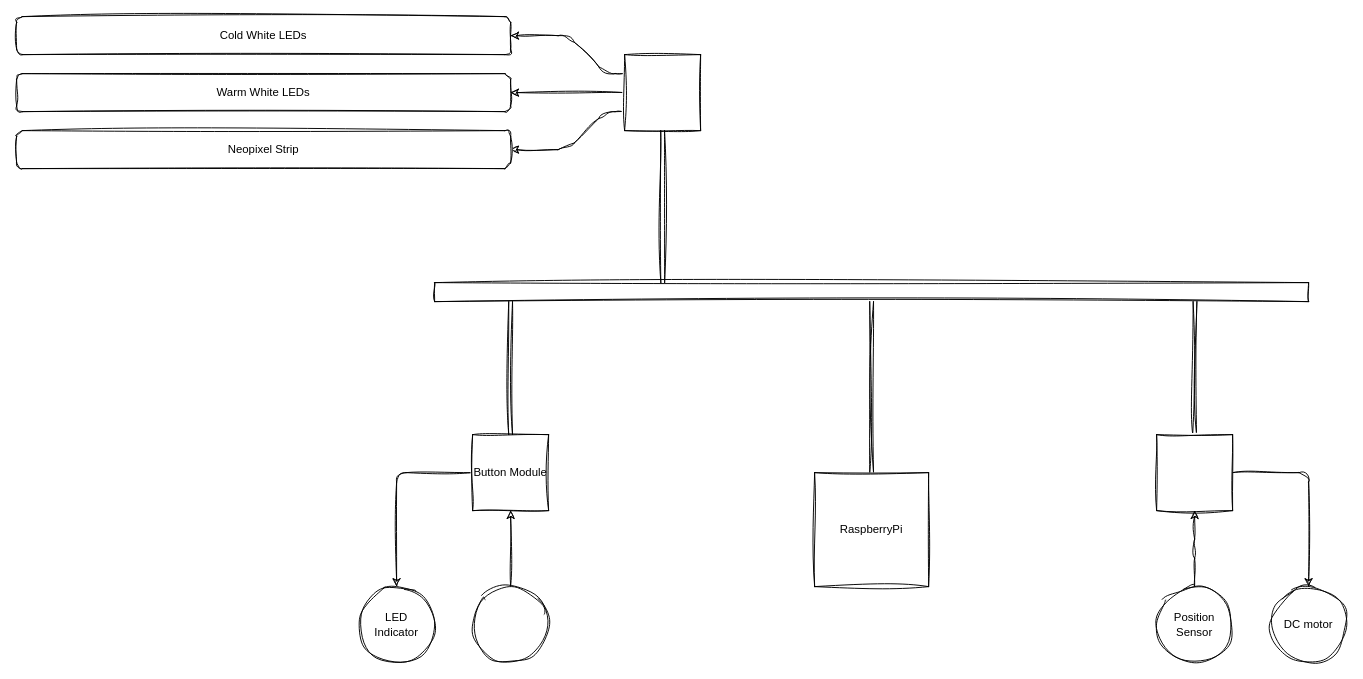
The diagram is 1363 pixels wide and 679 high, and some of its shapes have lost their labels. Each missing label, with the centre of its shape:
I2C Bus: the point at 871,292
LED Module: the point at 662,92
Motor Module: the point at 1194,472
Rotary/Push Encoder: the point at 510,624
